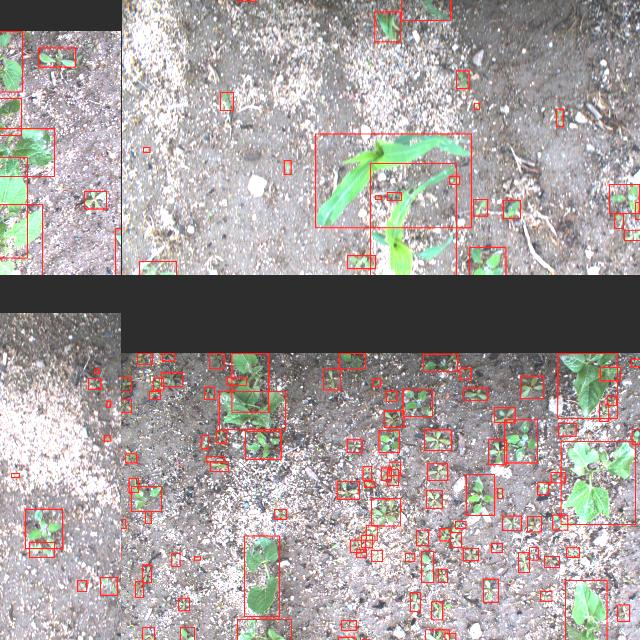crop: (315, 134, 471, 228), (369, 163, 455, 275), (560, 442, 634, 524), (557, 352, 617, 418), (0, 204, 41, 275), (244, 536, 278, 616), (0, 157, 26, 258), (0, 128, 54, 176), (218, 391, 286, 429), (564, 580, 606, 640), (232, 352, 268, 412), (0, 31, 22, 91), (236, 619, 290, 640), (401, 0, 450, 20), (374, 11, 400, 41), (0, 97, 21, 134)
weed: (24, 509, 62, 549), (504, 420, 536, 462), (466, 474, 494, 516), (468, 247, 505, 275), (244, 431, 280, 459), (608, 184, 638, 213), (370, 498, 400, 526), (402, 389, 432, 416), (131, 486, 161, 512), (37, 48, 74, 66), (423, 353, 457, 371), (424, 430, 451, 450), (138, 261, 175, 275), (520, 376, 542, 398), (488, 440, 507, 464), (378, 430, 398, 452), (28, 542, 54, 558), (338, 352, 364, 368), (84, 191, 106, 209), (336, 481, 358, 499), (322, 368, 340, 389), (346, 256, 376, 268), (383, 410, 403, 428), (421, 552, 433, 582), (482, 580, 498, 602), (427, 464, 447, 481), (502, 200, 520, 218), (160, 372, 182, 386), (100, 577, 116, 595), (463, 388, 487, 400), (425, 490, 441, 508), (494, 408, 514, 422), (599, 366, 619, 380), (472, 200, 488, 217), (208, 352, 224, 368), (552, 514, 568, 530), (557, 422, 575, 436), (502, 516, 520, 530), (425, 630, 449, 640), (527, 516, 541, 532), (456, 70, 468, 88), (220, 92, 232, 110), (518, 553, 528, 573), (409, 592, 419, 612), (431, 602, 442, 620), (346, 440, 362, 452), (416, 530, 428, 546), (462, 548, 478, 560), (617, 605, 629, 621), (180, 627, 194, 640), (209, 461, 227, 471), (136, 352, 152, 363), (387, 469, 398, 485), (598, 404, 608, 421), (544, 556, 558, 568), (350, 540, 364, 552), (624, 230, 640, 240), (630, 428, 640, 444), (450, 532, 460, 548), (340, 620, 356, 630), (366, 524, 376, 540), (142, 627, 154, 640), (361, 534, 372, 548), (227, 377, 246, 385), (142, 565, 150, 583), (152, 377, 164, 389), (550, 472, 564, 482), (437, 569, 447, 583), (390, 462, 400, 476), (362, 466, 372, 480), (128, 478, 138, 492), (371, 550, 382, 562), (438, 529, 449, 541), (386, 192, 402, 200), (135, 582, 143, 598), (121, 377, 130, 391), (88, 378, 100, 388), (460, 367, 470, 379), (204, 387, 214, 399), (216, 430, 226, 442), (538, 482, 548, 494), (274, 509, 286, 519), (566, 547, 578, 557), (178, 598, 188, 610), (539, 591, 551, 601), (528, 548, 538, 560), (381, 468, 391, 480), (121, 399, 130, 412), (614, 214, 622, 228), (200, 435, 208, 449), (556, 108, 562, 126), (77, 580, 86, 592), (206, 456, 224, 462), (386, 391, 396, 401), (606, 395, 616, 405), (125, 453, 136, 462), (162, 353, 174, 361), (171, 554, 179, 566), (148, 391, 160, 399), (635, 202, 640, 220), (491, 544, 502, 552), (284, 160, 290, 174), (449, 176, 459, 184), (455, 521, 465, 529), (404, 553, 414, 561), (356, 550, 366, 558), (444, 633, 455, 640), (631, 358, 640, 366), (145, 511, 151, 523), (372, 378, 380, 386), (364, 481, 374, 487), (496, 488, 502, 498), (337, 637, 354, 640), (11, 472, 19, 478), (121, 519, 125, 529), (142, 148, 150, 152), (193, 556, 200, 560), (474, 103, 478, 109), (375, 196, 381, 200), (94, 368, 98, 374), (106, 401, 110, 407), (103, 436, 109, 440)
